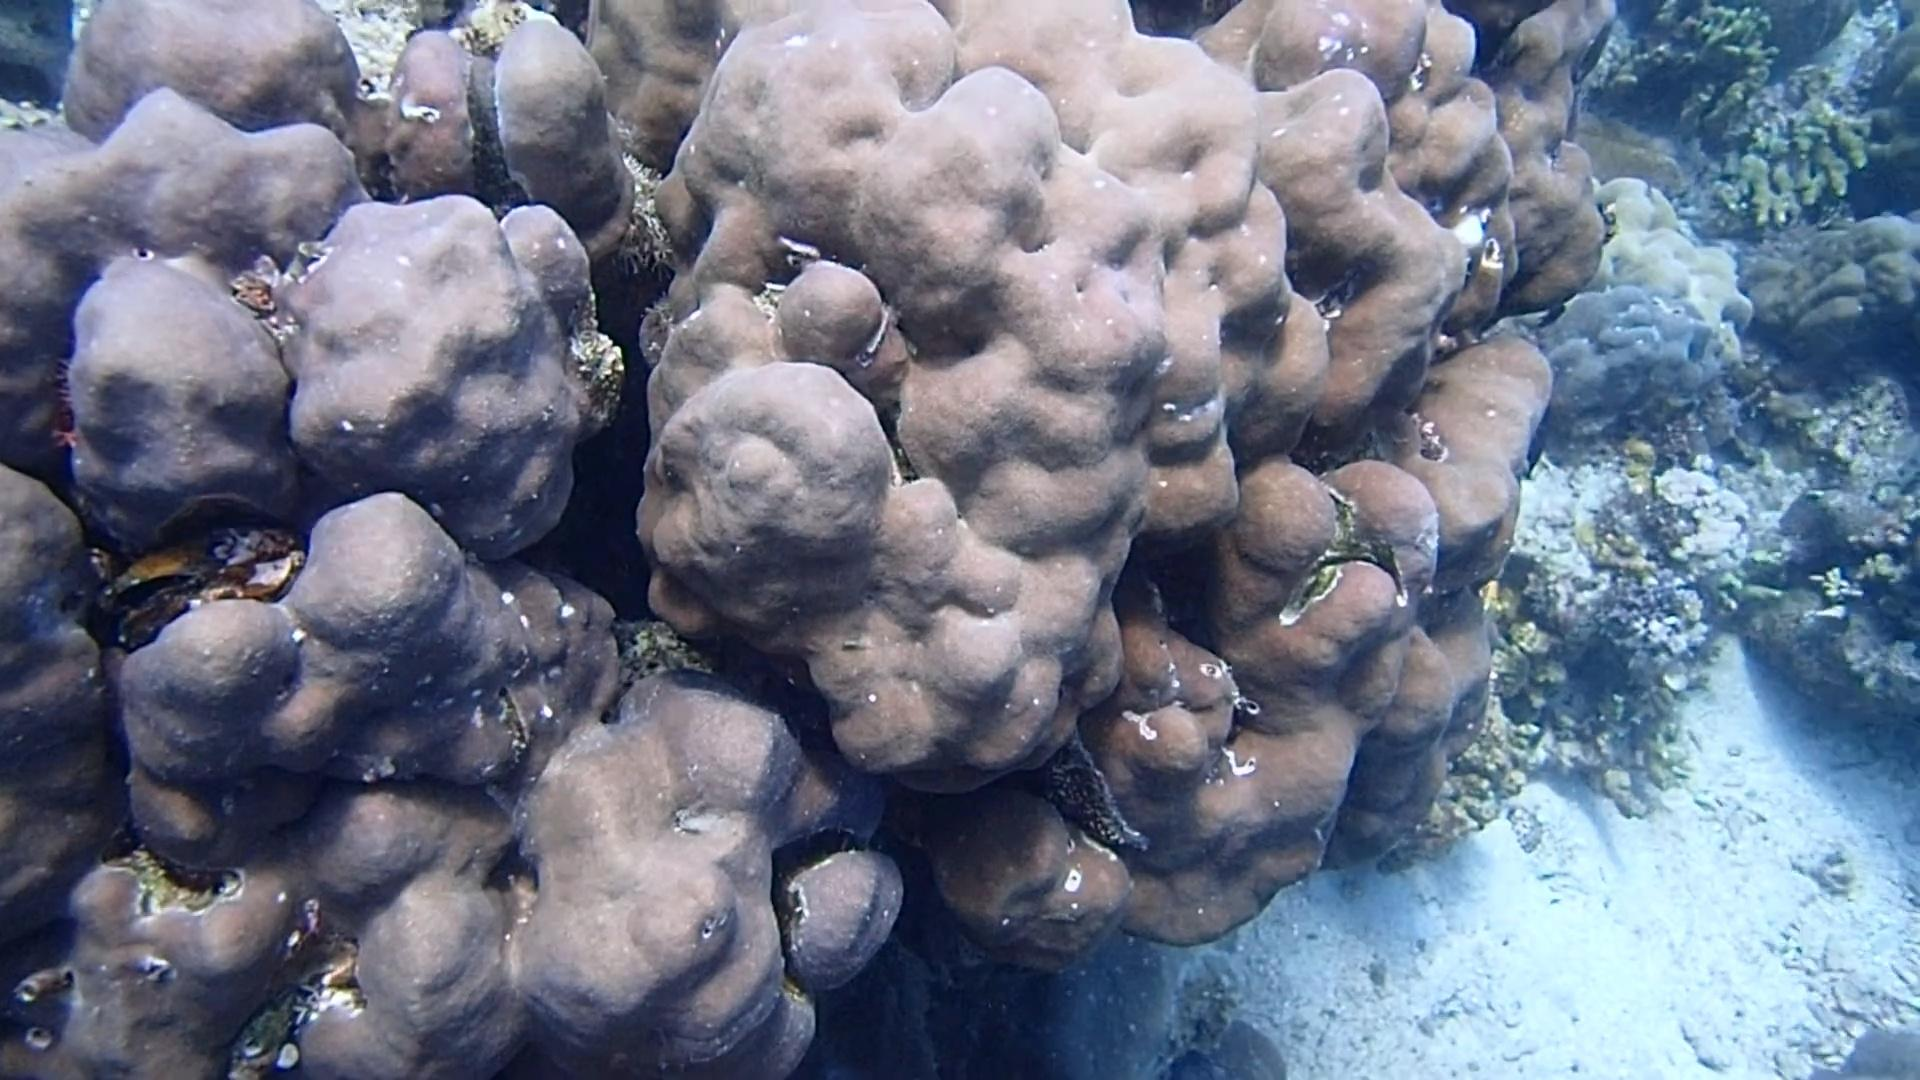Dark Fish: (1532, 301, 1568, 334)
